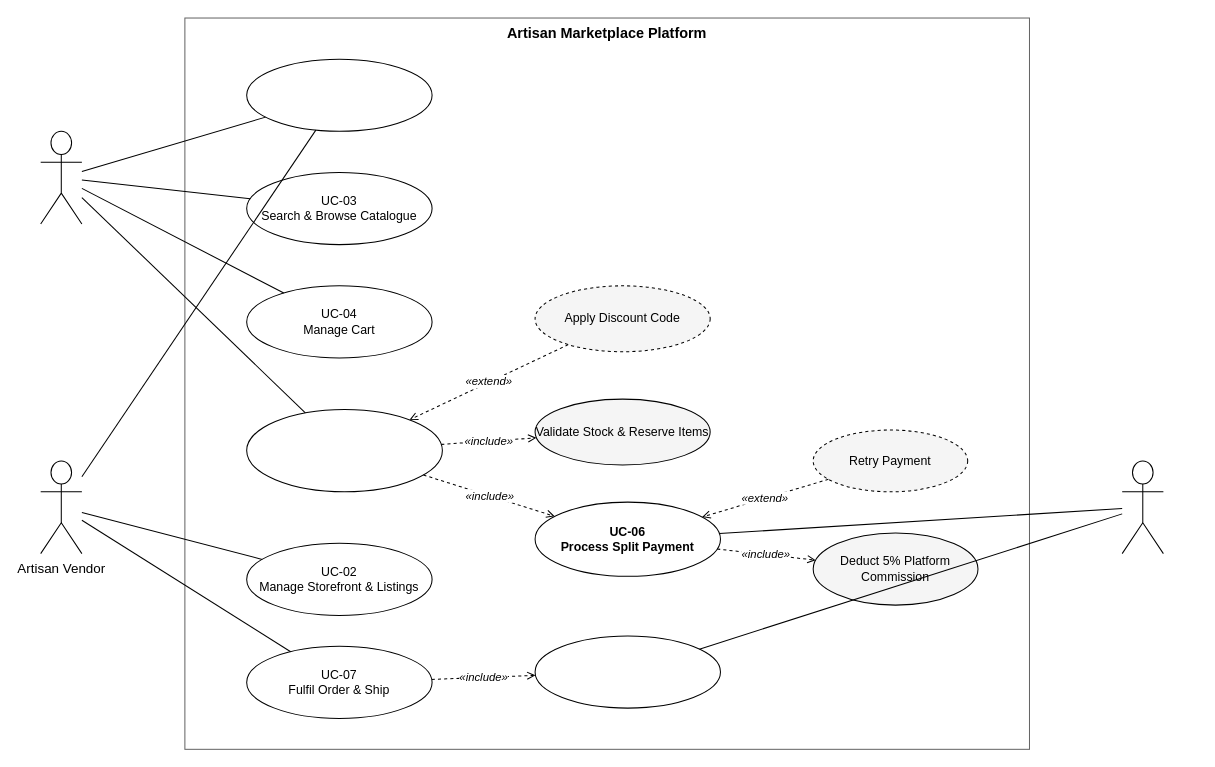
The diagram is 1215 pixels wide and 767 high, and some of its shapes have lost their labels. Each missing label, with the centre of its shape:
Payment Gateway: point (1142, 507)
Shopper: point (61, 177)
UC-01 Register / Sign In: point (339, 94)
UC-05 Checkout & Place Order: point (344, 450)
UC-08 Release Vendor Payout: point (627, 671)
